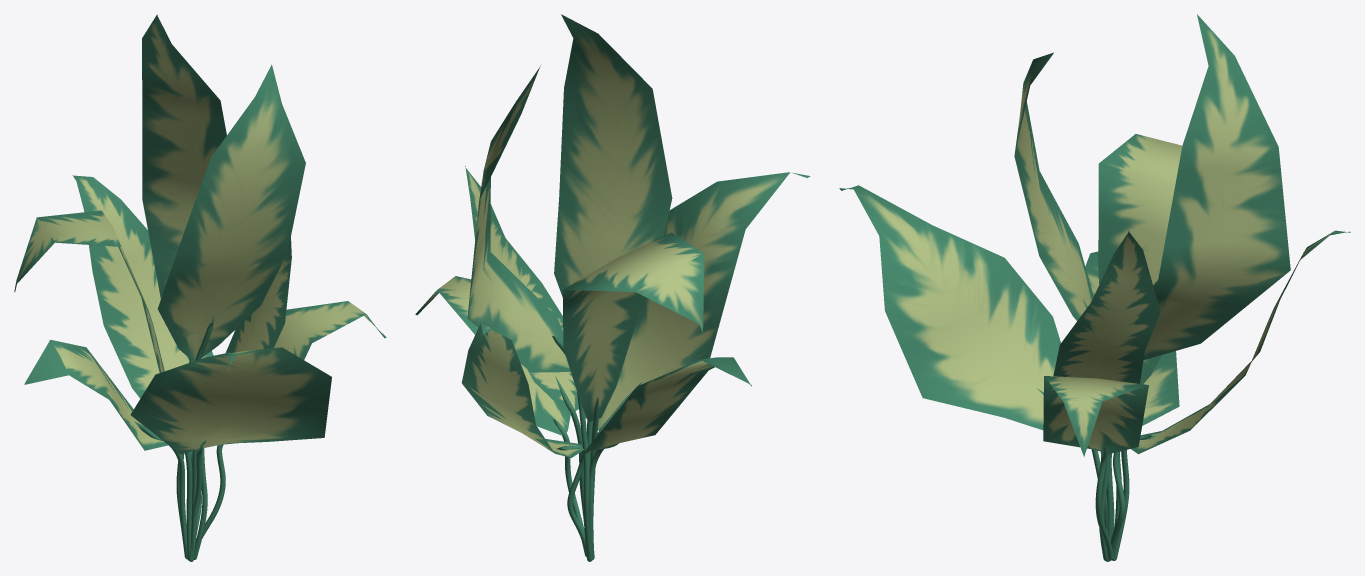
Rendered from plant003.glb.
3 renders of one model, left to right at view 1: azimuth 30°, elevation 25°; view 2: azimuth 150°, elevation 25°; view 3: azimuth 270°, elevation 25°, orthographic. The views are drawn at different scales.
Visible parts, largest first — view 1: s.0088, s.0094, s.0090, s.0098, s.0092, s.0096, s.0100, s.0102, s.0113, s.0107, s.0119, s.0123 (+2 smaller); view 2: s.0088, s.0092, s.0094, s.0090, s.0098, s.0096, s.0100, s.0102, s.0125, s.0115, s.0121, s.0113 (+1 smaller); view 3: s.0090, s.0094, s.0100, s.0092, s.0102, s.0088, s.0096, s.0098, s.0117, s.0115.
Boxes of the visible parts, x1,y1,x2,y2 form: s.0088: (157,64,305,361); s.0094: (130,347,331,454); s.0090: (142,14,226,360); s.0098: (72,175,213,398); s.0092: (14,210,164,372); s.0096: (24,339,167,450); s.0100: (226,237,291,352); s.0102: (274,301,386,359); s.0113: (135,422,187,559); s.0107: (191,440,206,557); s.0119: (185,452,192,560); s.0123: (189,317,214,561); s.0088: (554,14,672,297); s.0092: (562,232,704,421); s.0094: (585,172,810,430); s.0090: (467,65,570,372); s.0098: (461,322,583,457); s.0096: (582,357,751,454); s.0100: (465,166,578,414); s.0102: (415,276,570,435); s.0125: (552,336,592,561); s.0115: (556,445,586,554); s.0121: (555,376,583,521); s.0113: (588,443,618,561); s.0090: (1143,14,1290,360); s.0094: (839,185,1060,430); s.0100: (1053,230,1160,383); s.0092: (1098,134,1182,384); s.0102: (1043,376,1148,456); s.0088: (1014,52,1093,320); s.0096: (1085,251,1179,425); s.0098: (1131,230,1350,454); s.0117: (1095,447,1113,560); s.0115: (1110,435,1158,556).
Bounding box in the file's own units: 1.29 × 1.83 × 1.54.
Materials: 1 (1 with a texture image).
